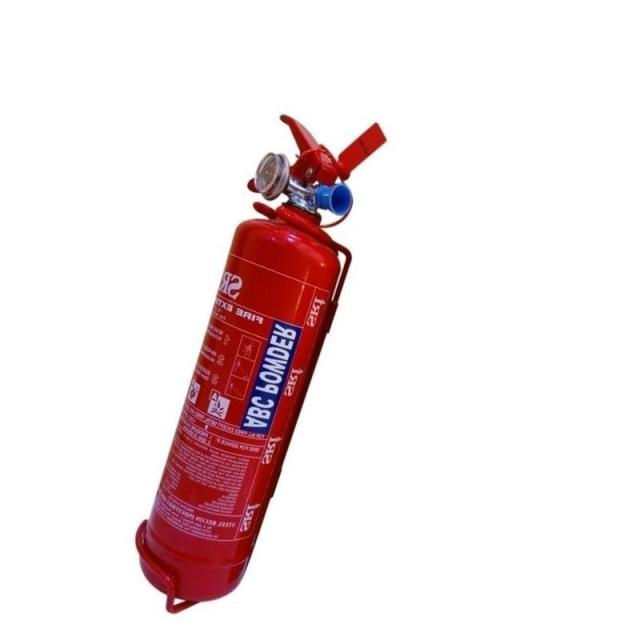fire_extinguisher: (130, 110, 390, 605)
